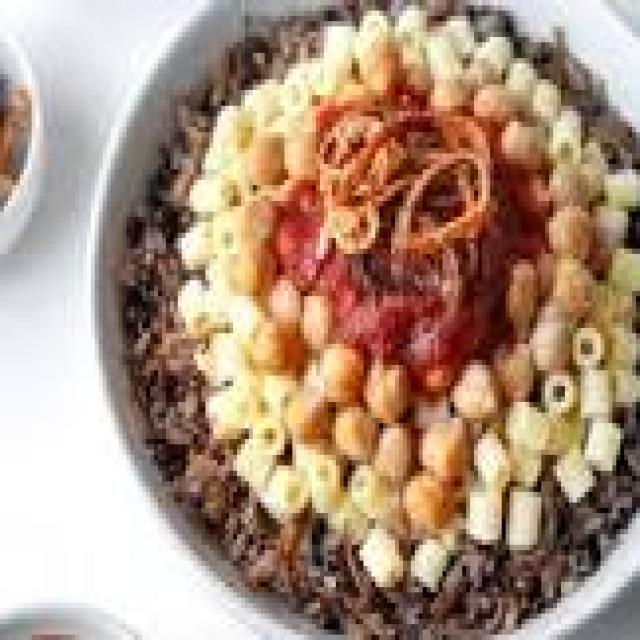koshary: (126, 0, 636, 640)
